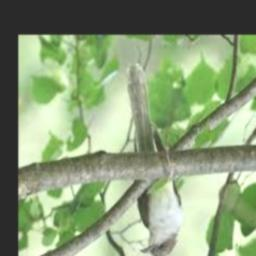Cuckoo: (128, 63, 183, 256)
